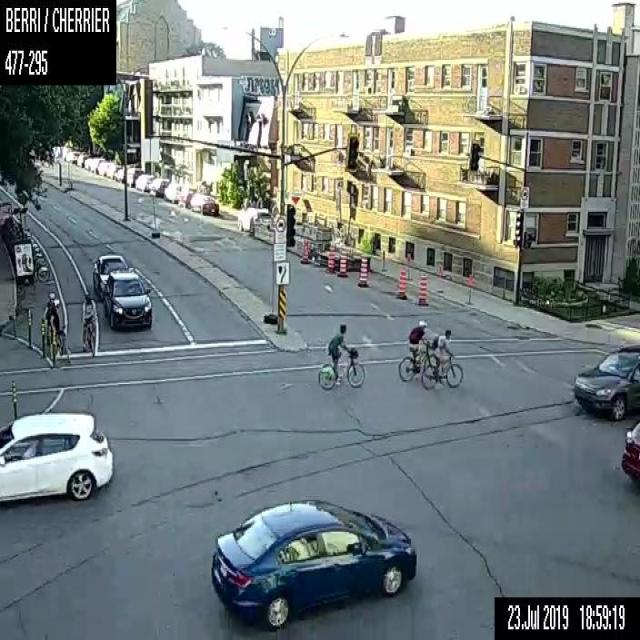construction: (464, 274, 476, 302), (417, 273, 427, 305), (398, 267, 407, 299), (358, 256, 366, 285), (435, 264, 443, 293), (40, 317, 45, 355), (406, 252, 412, 280), (327, 246, 334, 270), (27, 310, 31, 346), (12, 382, 16, 418), (302, 238, 308, 258), (380, 250, 386, 270), (11, 308, 15, 336), (340, 252, 345, 272)
cyclist: (318, 321, 364, 388), (397, 319, 437, 382), (422, 328, 462, 390), (79, 293, 96, 353), (47, 298, 62, 364), (42, 292, 57, 356)
vehicle: (209, 499, 416, 628), (0, 412, 114, 501), (574, 343, 639, 420), (102, 269, 152, 329), (93, 254, 126, 297), (619, 418, 639, 486), (237, 207, 271, 232), (190, 194, 218, 214), (177, 186, 196, 207), (163, 182, 181, 202), (134, 173, 154, 191), (150, 178, 169, 195), (126, 168, 143, 186), (106, 164, 120, 178), (90, 158, 104, 172), (98, 161, 110, 176), (66, 150, 80, 162), (114, 167, 124, 182), (77, 153, 87, 166), (84, 157, 92, 170)
